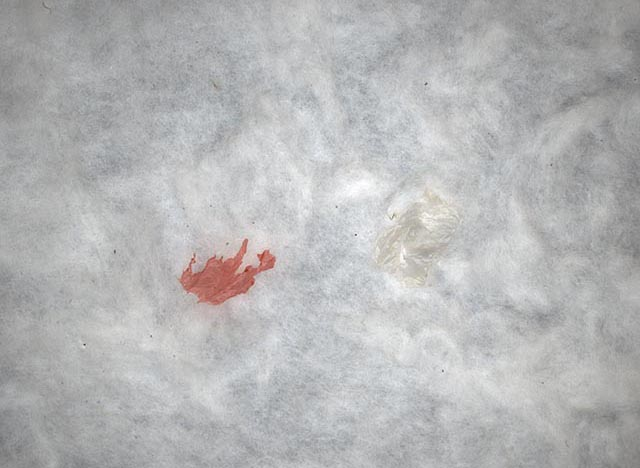plastic film: (372, 188, 460, 285), (177, 236, 276, 305)
